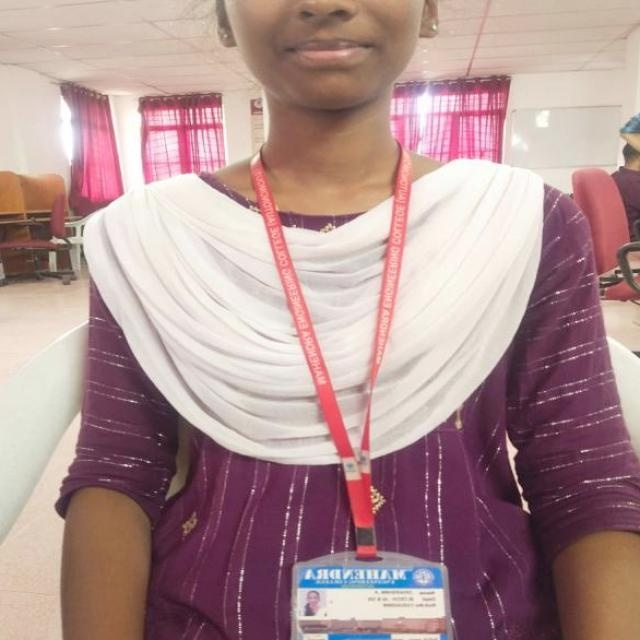ID_card: (252, 148, 449, 640)
